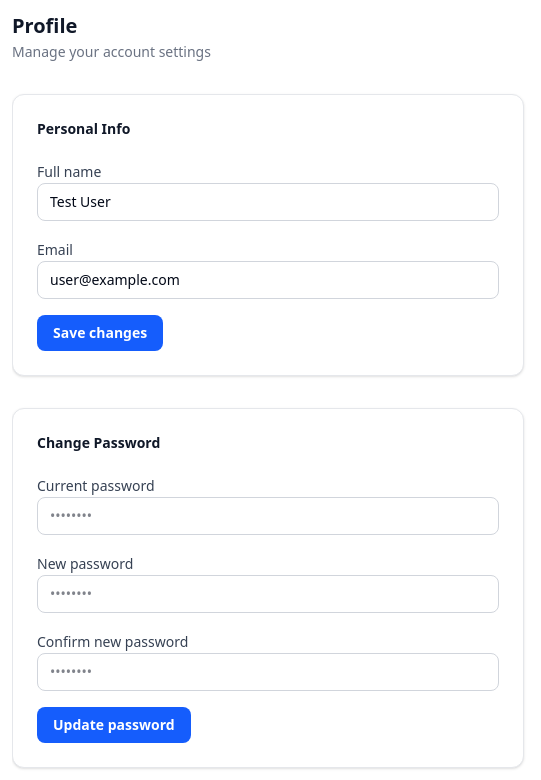
Test case: Profile › updates the profile and shows a success message
Step 1. Replace the text in the field showing "Test User" below "Full name" with "New Name" → (268, 202), box [37, 183, 499, 221]
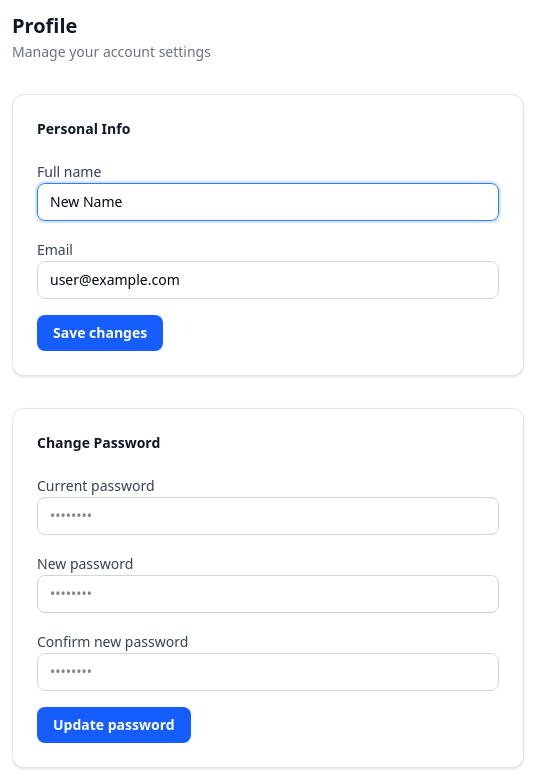
Step 2. Click the button "Save changes" → click(100, 333), box [37, 315, 163, 351]
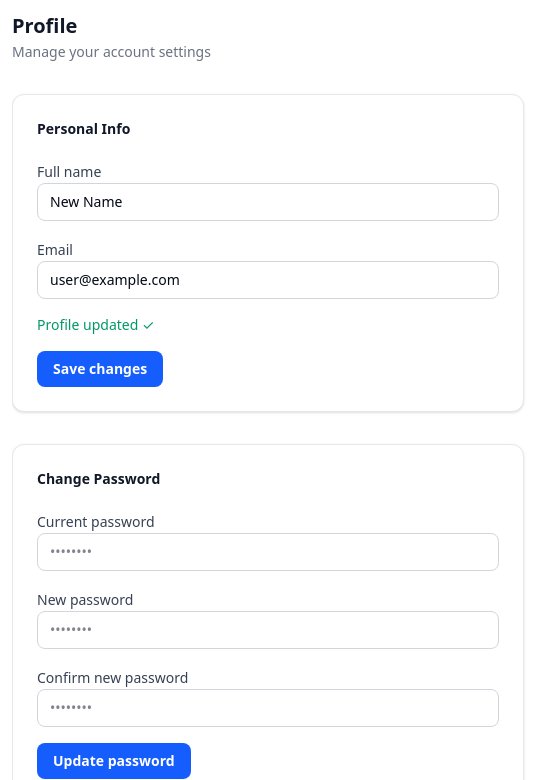
Expected: the text "Profile updated ✓" is shown, [37, 315, 154, 334]
